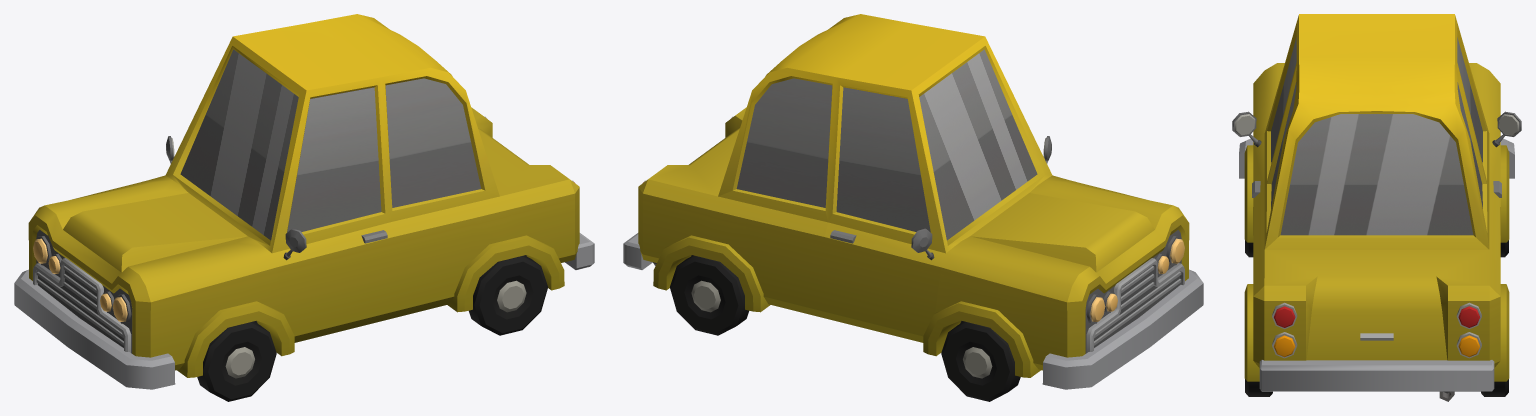
File: Car_8_V.gltf
3 renders of one model, left to right at view 1: azimuth 30°, elevation 25°; view 2: azimuth 150°, elevation 25°; view 3: azimuth 270°, elevation 25°, orthographic. The views are drawn at different scales.
Visible parts, largest first — view 1: Car_8_V, RL, FL; view 2: Car_8_V, RR, FR; view 3: Car_8_V, RL, RR.
Boxes of the visible parts, x1,y1,x2,y2 form: Car_8_V: (14, 14, 594, 389); RL: (469, 255, 547, 335); FL: (197, 321, 276, 401); Car_8_V: (623, 14, 1203, 389); RR: (670, 255, 748, 335); FR: (941, 321, 1020, 401); Car_8_V: (1232, 14, 1521, 401); RL: (1245, 379, 1272, 396); RR: (1481, 379, 1508, 396).
Bounding box in the file's own units: 3.38 × 1.84 × 1.7.
Materials: 3 (3 with a texture image).
